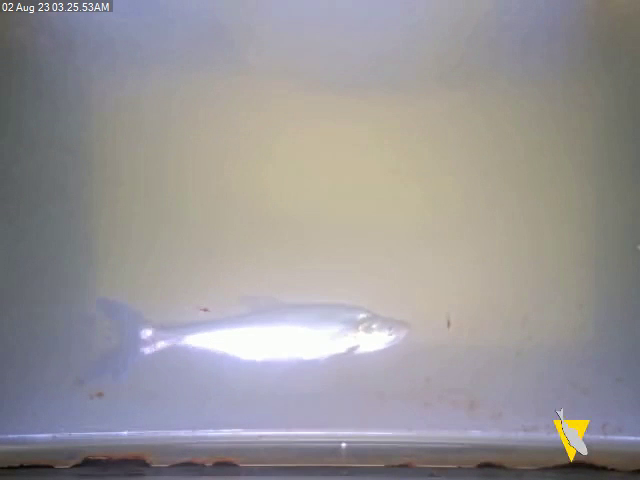\uAC15\uC900\uCE58: (71, 292, 413, 391)
